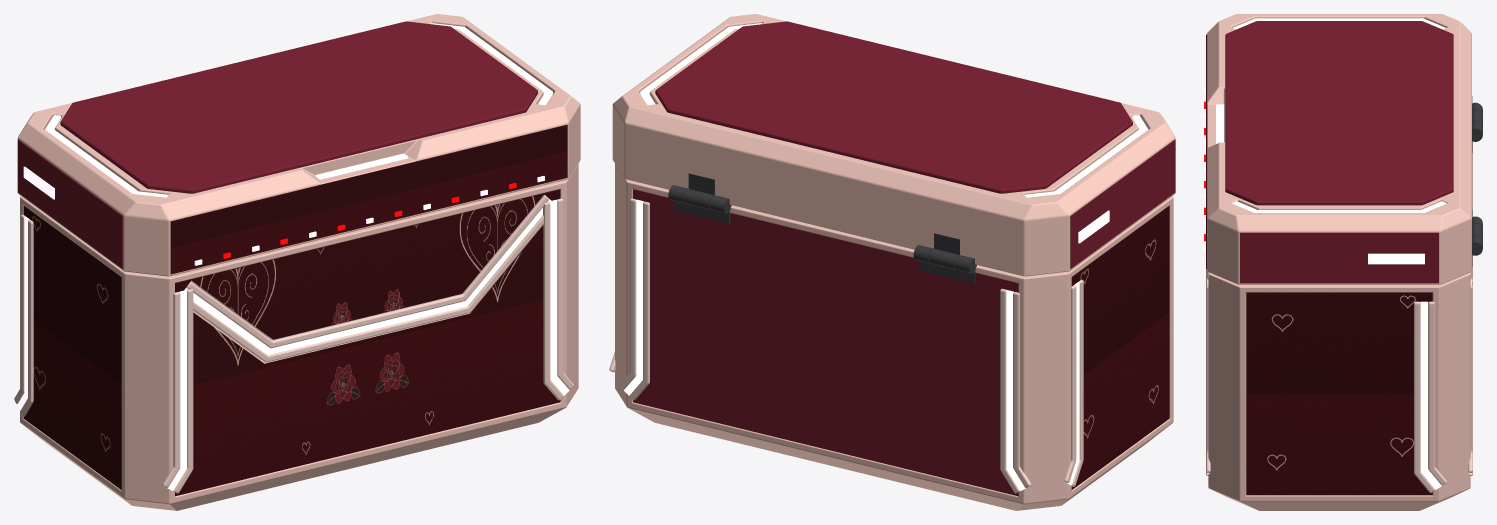
File: valentine.glb
3 views of the same model, side by side, from view 1: azimuth 30°, elevation 25°; view 2: azimuth 150°, elevation 25°; view 3: azimuth 270°, elevation 25° (orthographic). The views are drawn at different scales.
Parts seen in each view (by area): view 1: PlateFB, LidTopPanel, BodyCore, LidBand, LidFrontPlate, PlateSide, LidSidePlate, Rail_5, Rail_4, LedPath_3, Rail_16, LedPath_15 (+9 smaller); view 2: PlateFB.001, LidTopPanel, LidBand, BodyCore, PlateSide, LidSidePlate, Rail_10, Rail_20, LedPath_9, LedPath_18, Rail_11, Rail_19 (+5 smaller); view 3: LidTopPanel, PlateSide.001, BodyCore, LidBand, LidSidePlate.001, LedPath_21, Rail_22, Rail_23, LedPath_27, LedPath_30, LedPath_26, Rail_17 (+2 smaller).
Part boxes in pixels (left/top/right/bottom): PlateFB: left=175, top=189, right=560, bottom=496; LidTopPanel: left=60, top=21, right=537, bottom=193; BodyCore: left=20, top=163, right=578, bottom=510; LidBand: left=17, top=14, right=580, bottom=276; LidFrontPlate: left=170, top=125, right=567, bottom=274; PlateSide: left=23, top=206, right=121, bottom=489; LidSidePlate: left=17, top=139, right=122, bottom=268; Rail_5: left=186, top=195, right=548, bottom=348; Rail_4: left=193, top=215, right=543, bottom=362; LedPath_3: left=184, top=199, right=550, bottom=354; Rail_16: left=543, top=201, right=563, bottom=400; LedPath_15: left=549, top=199, right=569, bottom=395; PlateFB.001: left=633, top=189, right=1018, bottom=496; LidTopPanel: left=655, top=21, right=1132, bottom=193; LidBand: left=612, top=14, right=1175, bottom=276; BodyCore: left=615, top=164, right=1173, bottom=510; PlateSide: left=1071, top=205, right=1169, bottom=489; LidSidePlate: left=1070, top=139, right=1175, bottom=268; Rail_10: left=1000, top=288, right=1019, bottom=493; Rail_20: left=629, top=201, right=649, bottom=400; LedPath_9: left=1006, top=290, right=1025, bottom=491; LedPath_18: left=624, top=199, right=643, bottom=395; Rail_11: left=1013, top=292, right=1031, bottom=487; Rail_19: left=619, top=198, right=636, bottom=389; LidTopPanel: left=1225, top=21, right=1453, bottom=205; PlateSide.001: left=1246, top=292, right=1432, bottom=495; BodyCore: left=1208, top=272, right=1470, bottom=510; LidBand: left=1207, top=14, right=1471, bottom=284; LidSidePlate.001: left=1240, top=232, right=1438, bottom=283; LedPath_21: left=1420, top=301, right=1441, bottom=489; Rail_22: left=1414, top=301, right=1435, bottom=493; Rail_23: left=1428, top=301, right=1446, bottom=485; LedPath_27: left=1232, top=201, right=1446, bottom=212; LedPath_30: left=1368, top=253, right=1424, bottom=264; LedPath_26: left=1233, top=18, right=1445, bottom=29; Rail_17: left=1206, top=284, right=1210, bottom=473.
Bounding box in the file's own units: 1.78 × 1.17 × 0.978.
12 materials, 3 textured.
